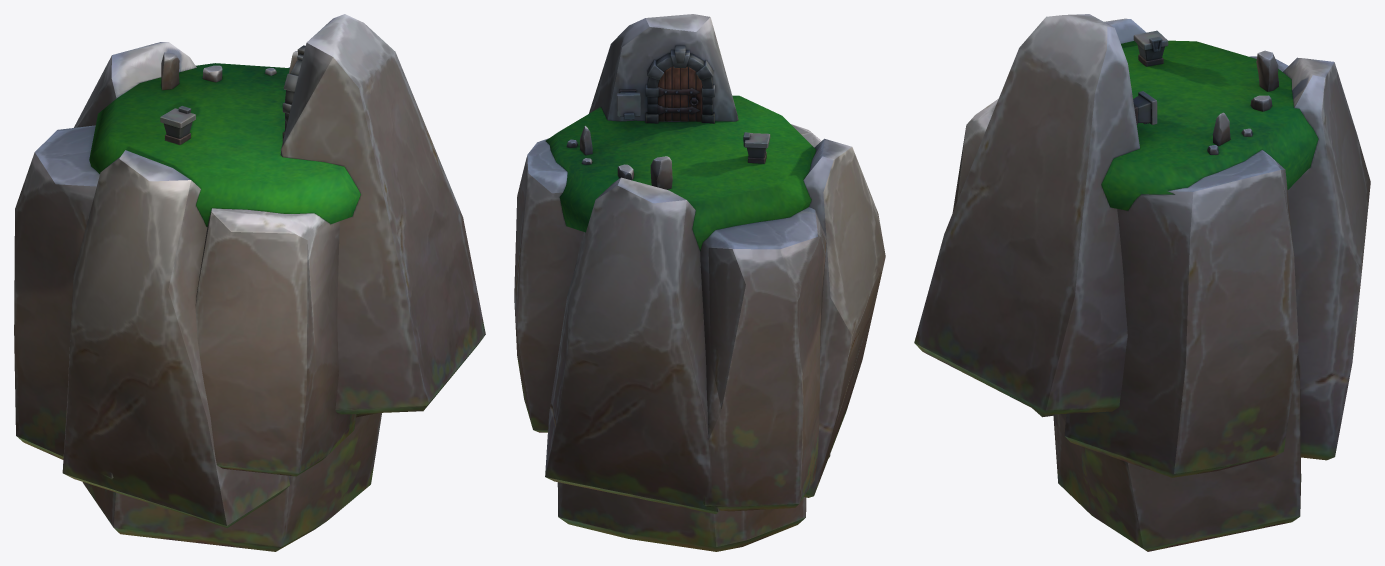
3 views of the same model, side by side, from view 1: azimuth 30°, elevation 25°; view 2: azimuth 150°, elevation 25°; view 3: azimuth 270°, elevation 25° (orthographic). The views are drawn at different scales.
Parts seen in each view (by area): view 1: island_3; view 2: island_3; view 3: island_3.
Boxes of the visible parts, bbox=[...] form: island_3: bbox=[14, 14, 485, 551]; island_3: bbox=[514, 14, 885, 551]; island_3: bbox=[914, 14, 1370, 551].
Bounding box in the file's own units: 12.45 × 16.55 × 13.38.
Materials: 1 (1 with a texture image).
